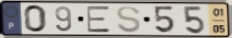0: (22, 4, 50, 34)
5: (181, 5, 208, 36), (153, 5, 177, 35)
9: (54, 5, 73, 33)
E: (85, 5, 112, 34)
S: (116, 5, 143, 35)
